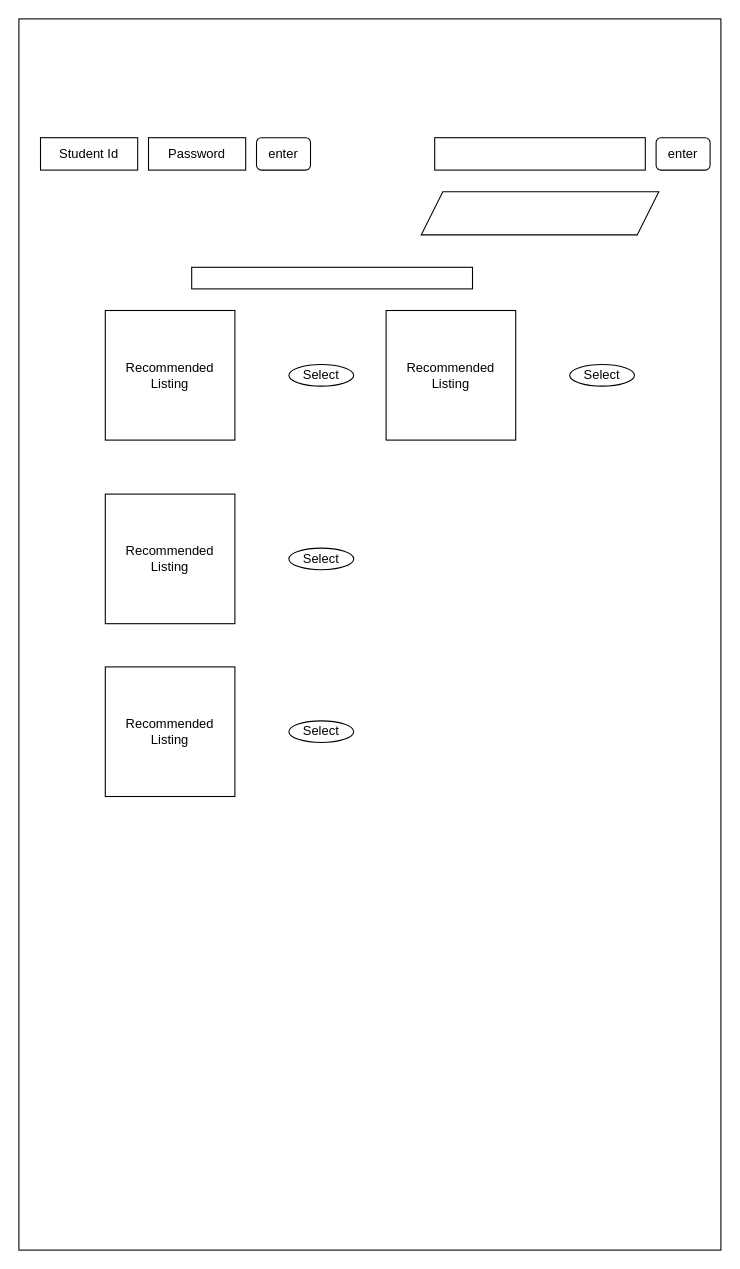
This 740x1269 diagram has some shape labels left out. The shapes that lost their labels are listed below. From the top down, each one's box as (x1, y1, x2, y2) in pixels, then its label:
(434, 137, 645, 170): Item Search
(420, 191, 659, 235): Check out
(191, 266, 473, 289): No items exist message
